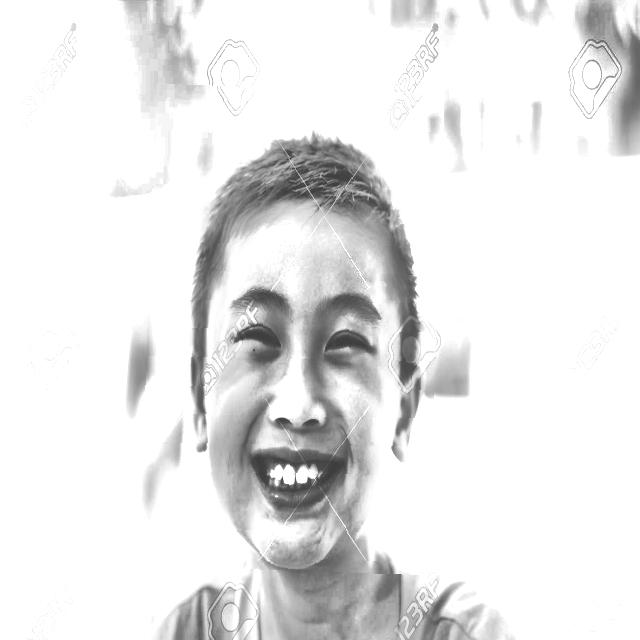happy: (143, 87, 440, 573)
